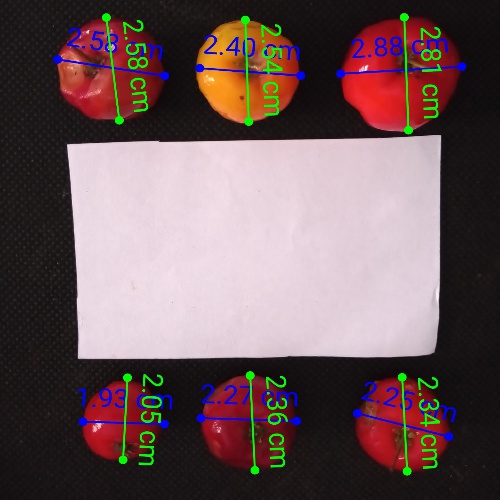acerola: (342, 18, 460, 131), (57, 18, 163, 119), (198, 21, 298, 124), (201, 376, 295, 468), (356, 379, 448, 471), (83, 380, 162, 459)
cartao: (76, 143, 437, 356)
